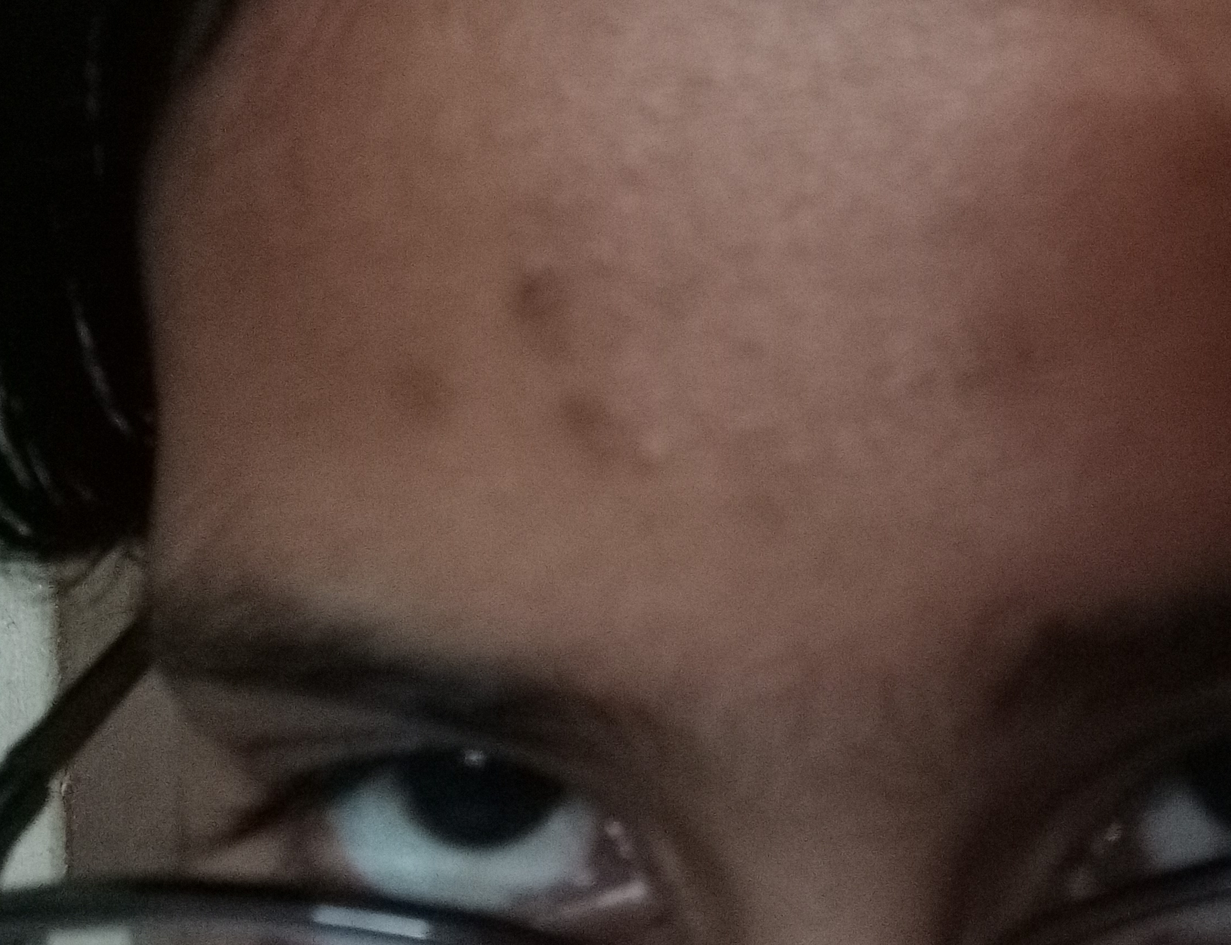papule: (494, 269, 586, 355), (386, 363, 463, 434)
pustule: (620, 411, 709, 476)
